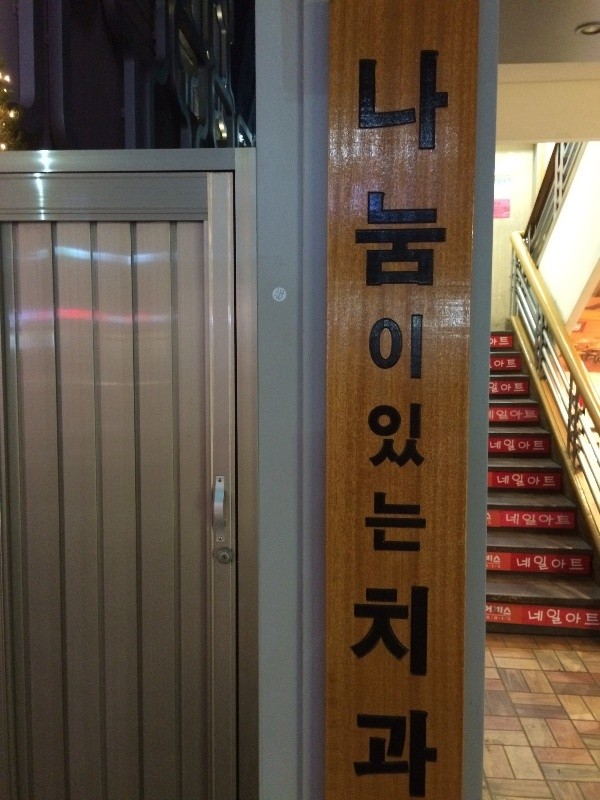text: (353, 44, 368, 795), (369, 44, 384, 795), (385, 44, 400, 795), (401, 44, 416, 795), (417, 44, 432, 795), (433, 44, 448, 795), (351, 44, 352, 795), (449, 44, 450, 795), (529, 607, 544, 626), (545, 607, 560, 626), (561, 607, 576, 626), (577, 607, 592, 626), (529, 555, 544, 571), (545, 555, 560, 571), (561, 555, 576, 571), (497, 473, 512, 488), (513, 473, 528, 488), (529, 473, 544, 488), (513, 512, 528, 526), (529, 512, 544, 526), (545, 512, 560, 526), (497, 202, 510, 218), (497, 381, 512, 394), (516, 555, 528, 571), (529, 439, 545, 451), (497, 604, 512, 616), (497, 439, 512, 451), (513, 439, 528, 451), (497, 409, 512, 421), (513, 409, 528, 421), (545, 473, 556, 488), (513, 381, 525, 394), (561, 512, 572, 526), (497, 359, 512, 369), (593, 607, 600, 626), (497, 336, 509, 347), (486, 604, 496, 616), (577, 555, 584, 571), (497, 615, 511, 622), (529, 409, 537, 421), (489, 381, 496, 394), (487, 554, 496, 564), (506, 512, 512, 526), (489, 439, 496, 451), (489, 409, 496, 420), (487, 512, 496, 520), (486, 615, 496, 622), (491, 336, 496, 347), (486, 564, 496, 569), (487, 520, 496, 525), (497, 554, 501, 564), (513, 359, 517, 369), (490, 363, 496, 369), (494, 202, 496, 218), (497, 564, 501, 569), (494, 359, 496, 369), (495, 409, 496, 421)
